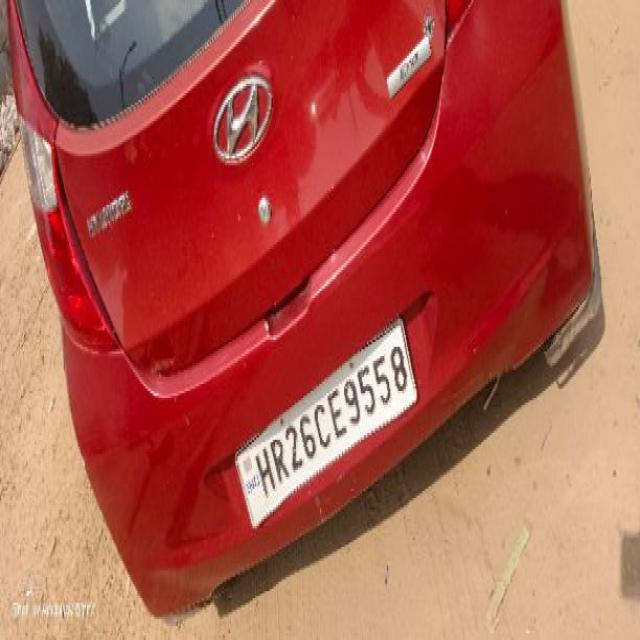license_plate: (9, 0, 597, 614), (234, 314, 418, 528)
